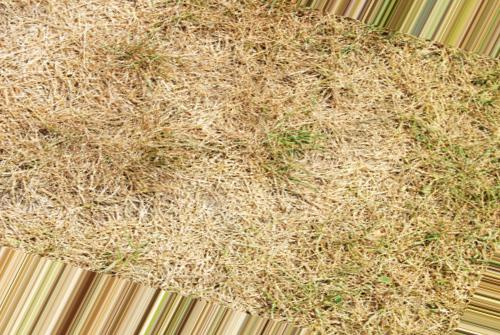patch: (87, 133, 228, 220), (249, 161, 349, 243), (61, 38, 190, 101), (211, 60, 313, 128), (349, 63, 421, 152), (150, 236, 258, 282), (12, 119, 78, 185), (358, 255, 422, 300), (367, 169, 416, 218), (299, 136, 342, 158)
